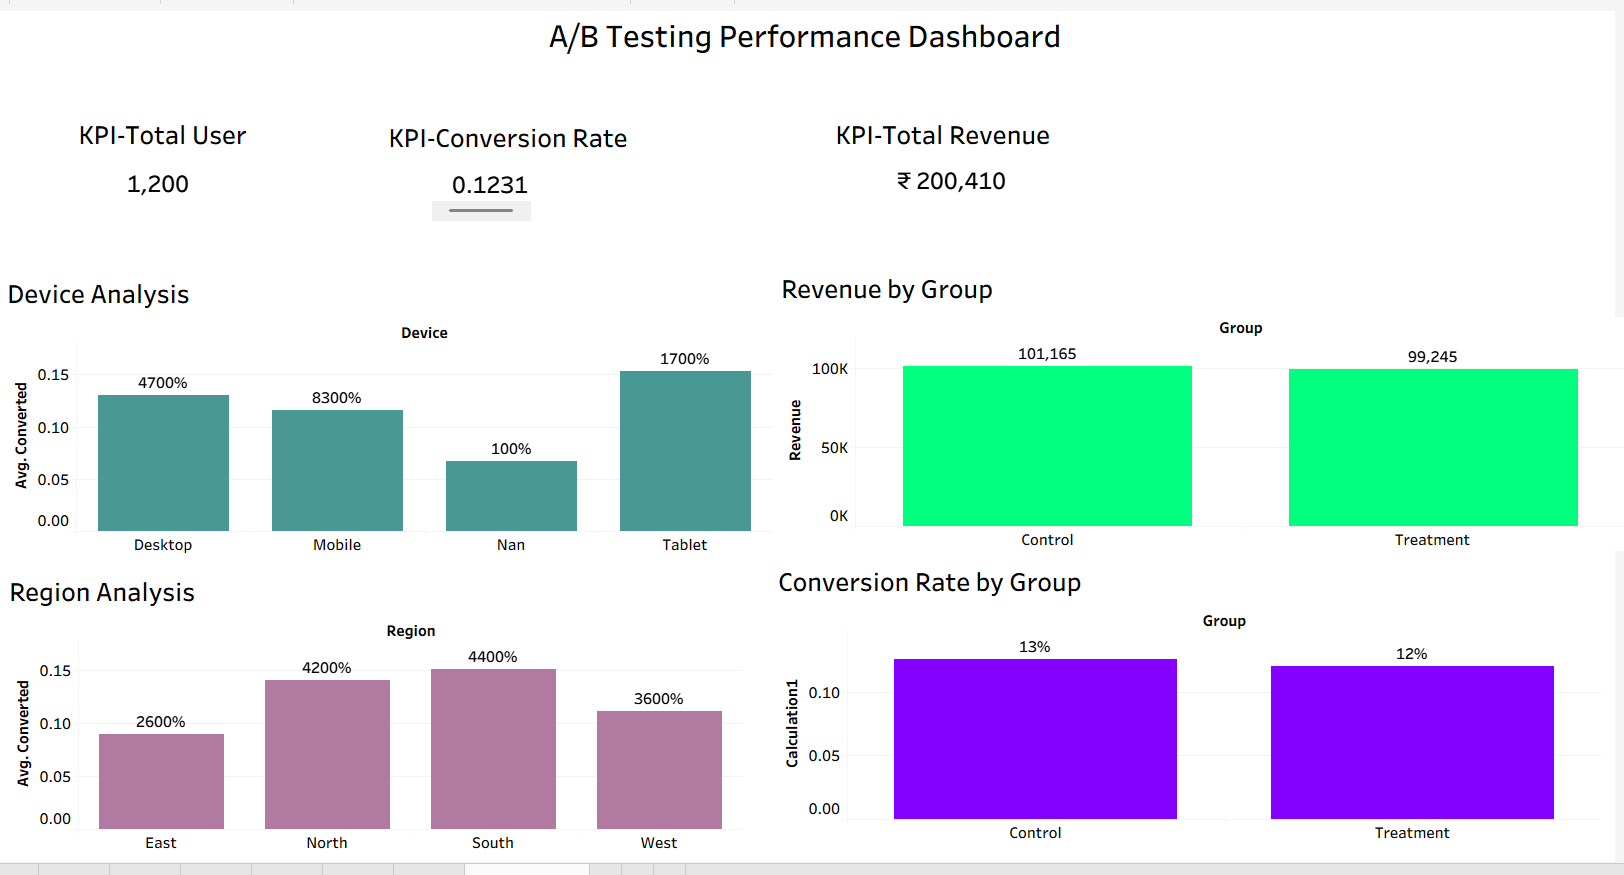

Layout of this report page (visuals, bound fields, positions):
{"tool":"tableau","page":{"name":"Dashboard 1","canvas":[1620,860],"ordinal":0},"visuals":[{"type":"title","box":[8,8,1604,49]},{"type":"text","box":[80,115,176,35]},{"type":"text","box":[837,115,222,35]},{"type":"text","box":[390,120,283,30]},{"type":"worksheet","title":"Sheet 3","mark":"Automatic","box":[895,162,125,60]},{"type":"worksheet","title":"Sheet 1","mark":"Automatic","box":[118,165,97,70]},{"type":"worksheet","title":"Sheet 2","mark":"Automatic","box":[437,166,99,73]},{"type":"worksheet","title":"Sheet 7","mark":"Automatic","rows":["Converted"],"cols":["Device"],"box":[8,270,769,284]},{"type":"worksheet","title":"Sheet 5","mark":"Automatic","rows":["Calculation_1025612699361282"],"cols":["Group"],"box":[779,558,827,284]},{"type":"worksheet","title":"Sheet 8","mark":"Automatic","rows":["Converted"],"cols":["Region"],"box":[10,568,738,284]}]}

Visuals, with their boxes in screenshot pixels (x1, y1, x2, y2), scaled from the page's 1620x860 canvas onto the 1624x875 screenshot:
title: x1=8 y1=8 x2=1616 y2=58
text: x1=80 y1=117 x2=257 y2=153
text: x1=839 y1=117 x2=1062 y2=153
text: x1=391 y1=122 x2=675 y2=153
"Sheet 3" worksheet: x1=897 y1=165 x2=1023 y2=226
"Sheet 1" worksheet: x1=118 y1=168 x2=216 y2=239
"Sheet 2" worksheet: x1=438 y1=169 x2=537 y2=243
"Sheet 7" worksheet: x1=8 y1=275 x2=779 y2=564
"Sheet 5" worksheet: x1=781 y1=568 x2=1610 y2=857
"Sheet 8" worksheet: x1=10 y1=578 x2=750 y2=867
